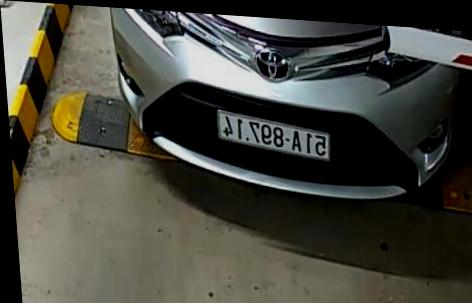License_Plate: (211, 109, 338, 162)
